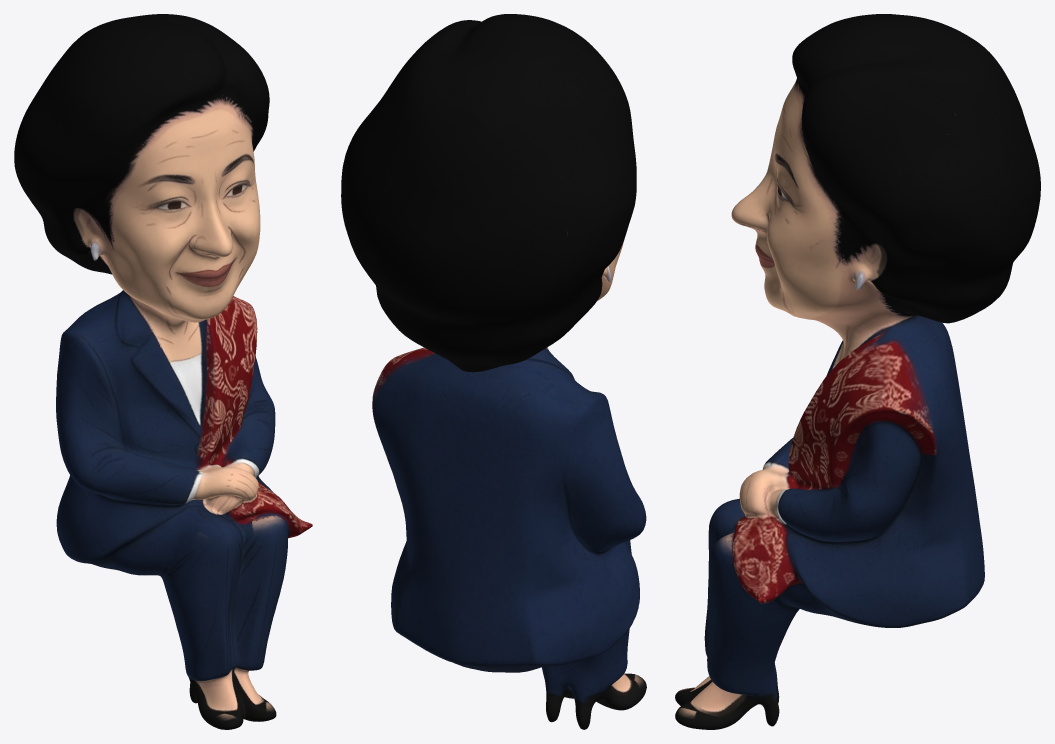
Rendered from megawati.glb.
3 renders of one model, left to right at view 1: azimuth 30°, elevation 25°; view 2: azimuth 150°, elevation 25°; view 3: azimuth 270°, elevation 25°, orthographic. The views are drawn at different scales.
Size of the model in its own units: 0.7144 by 1.9 by 0.9082.
1 material, 1 textured.
